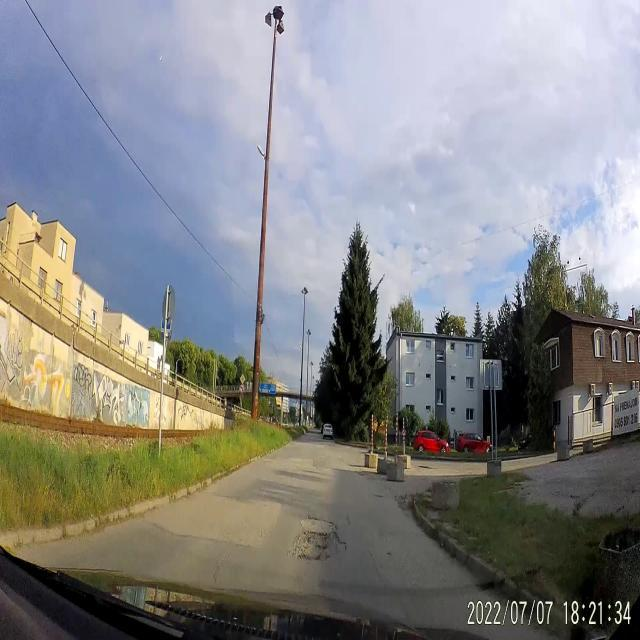Pothole: (294, 504, 348, 568), (367, 491, 387, 501), (415, 464, 435, 472), (384, 550, 396, 558)
